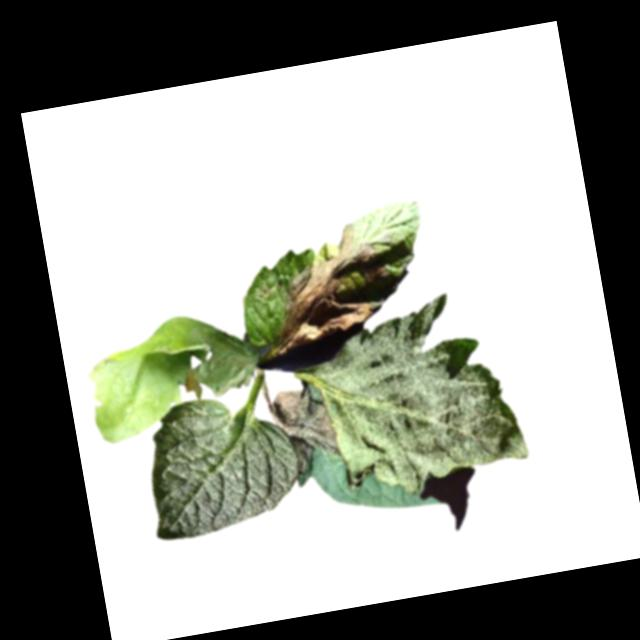Late_blight: (344, 288, 509, 464), (77, 304, 262, 446), (254, 219, 401, 357), (268, 381, 341, 479)
